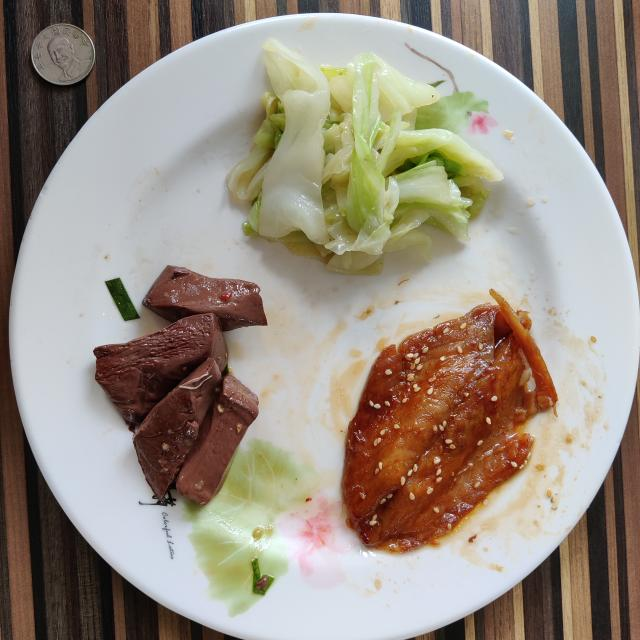Kabayaki sea bream fillet: (342, 299, 558, 551)
cabbage: (228, 39, 502, 274)
coin: (31, 24, 95, 85)
pig blood curd: (94, 266, 268, 505)
